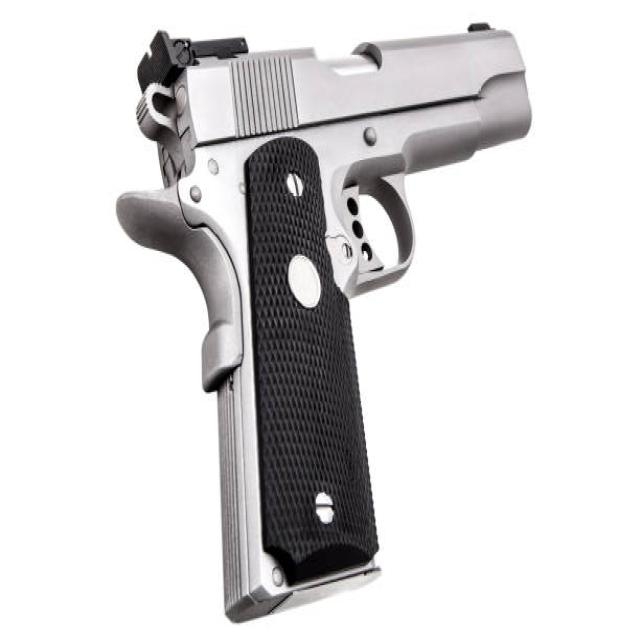pistol: (107, 12, 535, 630)
